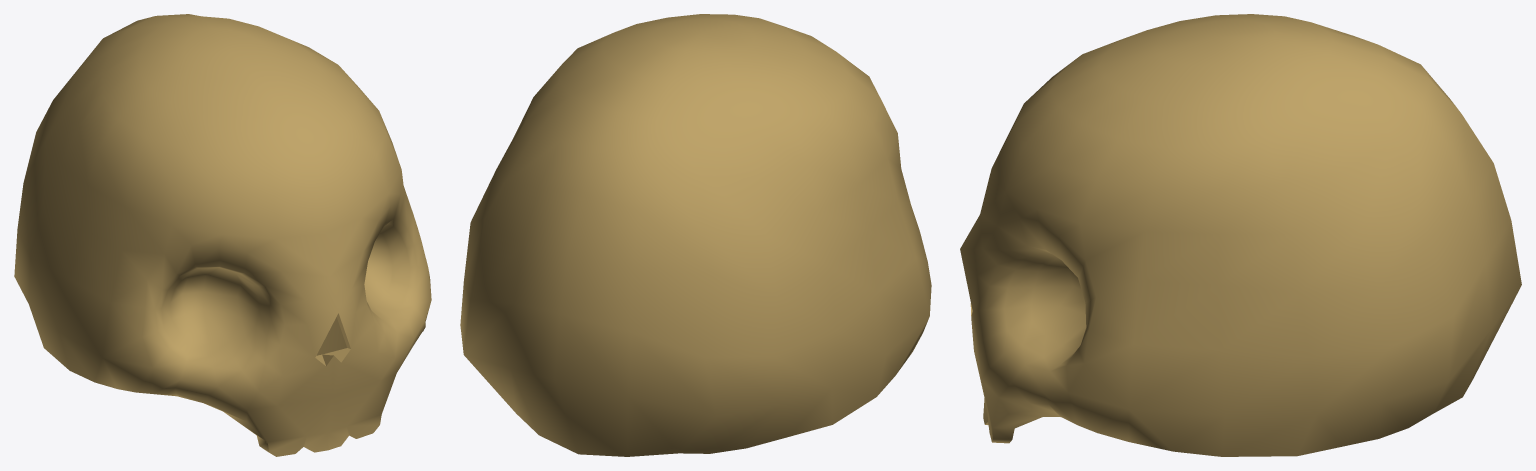
Rendered from skull 1.fbx.
The picture shows the model from 3 angles, left to right: view 1: azimuth 30°, elevation 25°; view 2: azimuth 150°, elevation 25°; view 3: azimuth 270°, elevation 25°; orthographic projection. The views are drawn at different scales.
Parts seen in each view (by area): view 1: Sphere; view 2: Sphere; view 3: Sphere.
Part boxes in pixels (x1=…): Sphere: x1=14, y1=14, x2=431, y2=456; Sphere: x1=460, y1=14, x2=931, y2=456; Sphere: x1=960, y1=14, x2=1521, y2=456.
Bounding box in the file's own units: 0.47 × 0.4467 × 0.5893.
